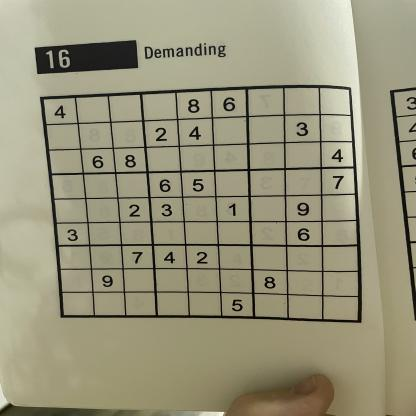sudoku: (30, 83, 367, 330)
